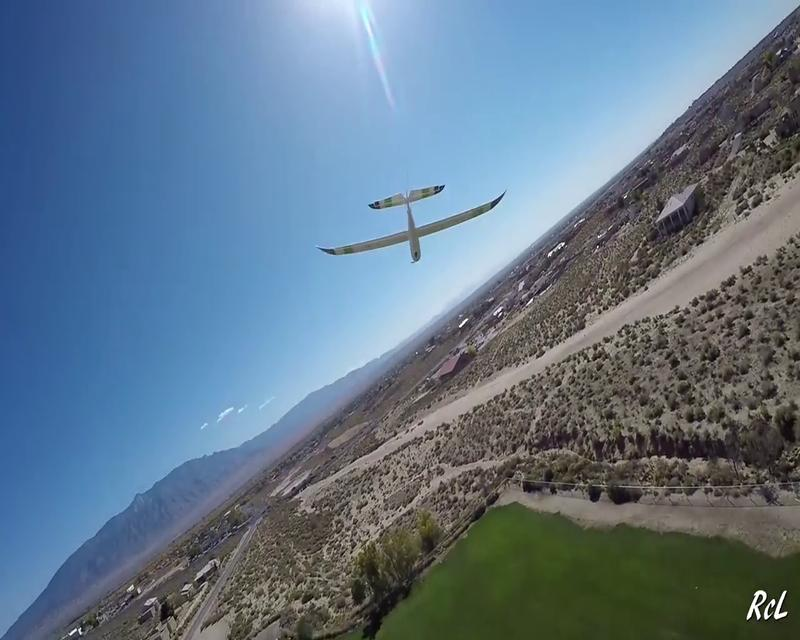UAV: (314, 184, 509, 263)
